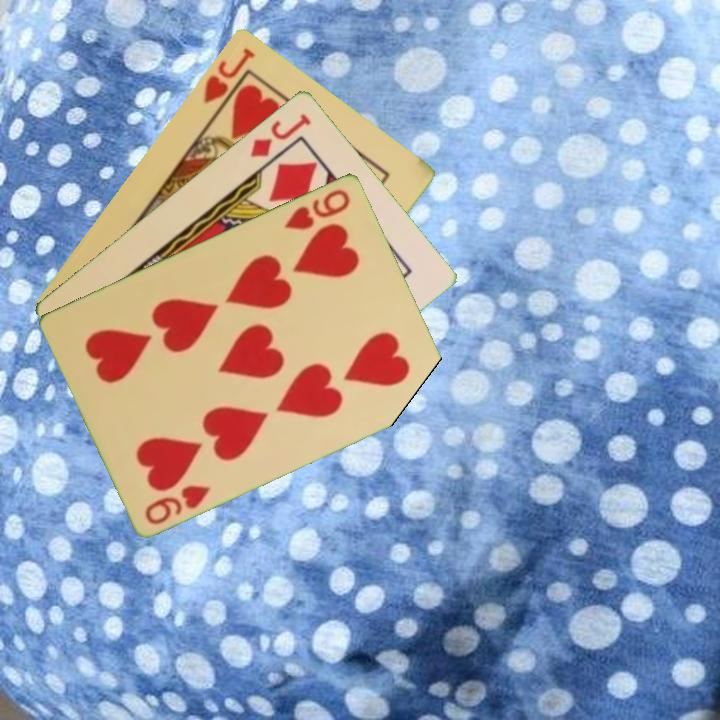9h: (281, 184, 354, 233), (141, 480, 214, 528)
Jd: (247, 109, 314, 160)
Jh: (199, 43, 258, 120)
